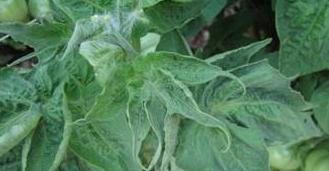Tomato leaf mosaic virus: (65, 81, 157, 171), (174, 105, 286, 171), (151, 65, 231, 148), (140, 49, 244, 91)
